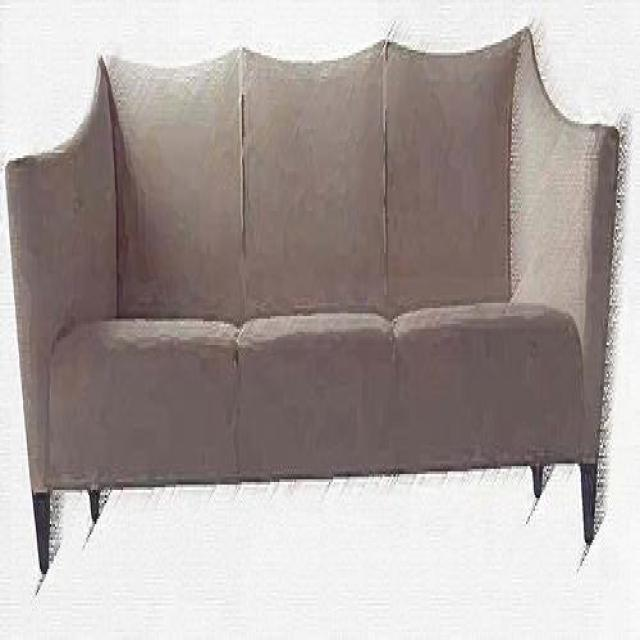sofa: (1, 16, 622, 580)
